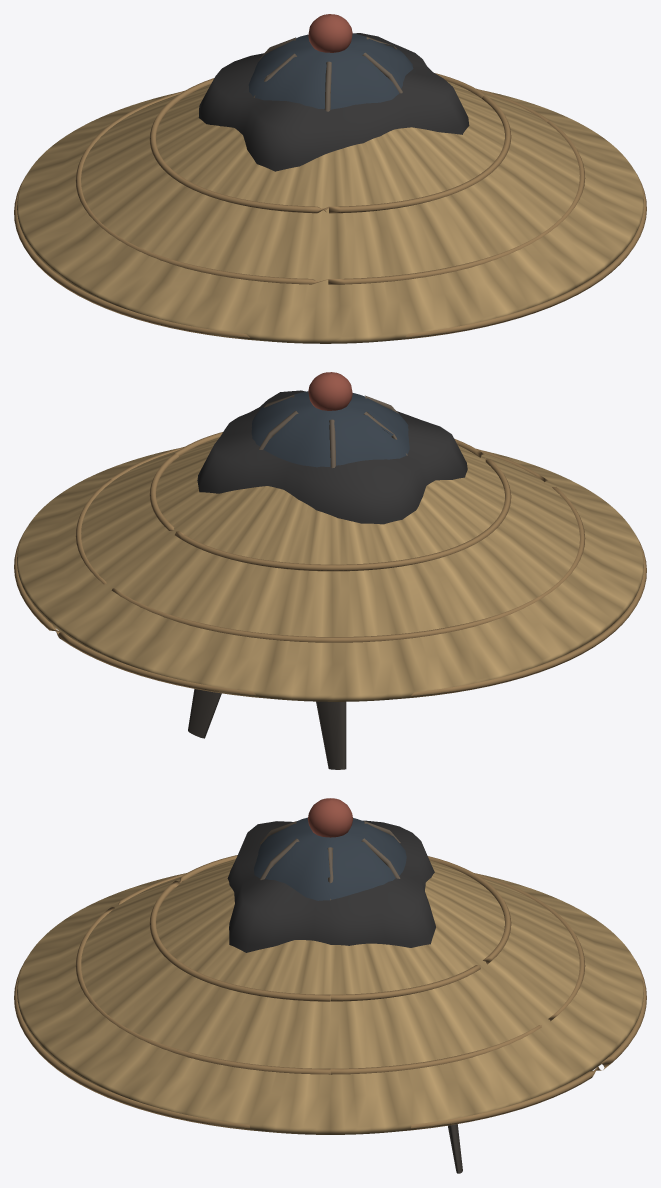
File: headwear.glb
3 views of the same model, one above another, from view 1: azimuth 30°, elevation 25°; view 2: azimuth 150°, elevation 25°; view 3: azimuth 270°, elevation 25° (orthographic).
Parts seen in each view (by area): view 1: PlaitedRainHat, ScholarsCap, OfficialCap; view 2: PlaitedRainHat, ScholarsCap, OfficialCap; view 3: PlaitedRainHat, ScholarsCap, OfficialCap.
Boxes of the visible parts, x1,y1,x2,y2 form: PlaitedRainHat: (14, 73, 646, 343); ScholarsCap: (198, 33, 469, 171); OfficialCap: (248, 14, 413, 111); PlaitedRainHat: (14, 432, 646, 701); ScholarsCap: (188, 390, 467, 769); OfficialCap: (251, 372, 409, 468); PlaitedRainHat: (14, 855, 646, 1134); ScholarsCap: (227, 820, 462, 1173); OfficialCap: (254, 798, 406, 900).
Bounding box in the file's own units: 0.6267 × 0.3609 × 0.6126.
